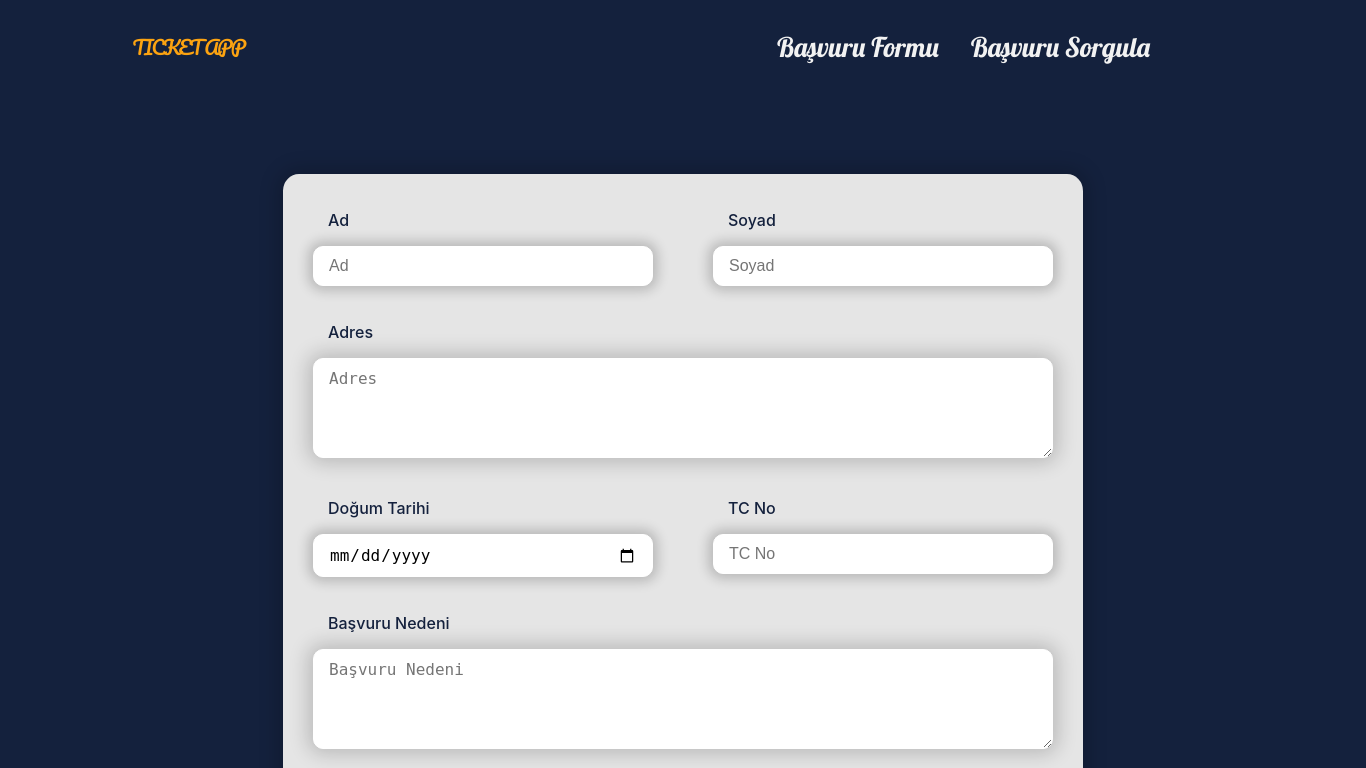
ApplicationForm › should display min length error when name, address, application  is invalid
Type "Y" into the field with test id "firstName". click: (483, 266)
box: [313,246,653,286]
Type "C" into the field with test id "lastName". click: (883, 266)
box: [713,246,1053,286]
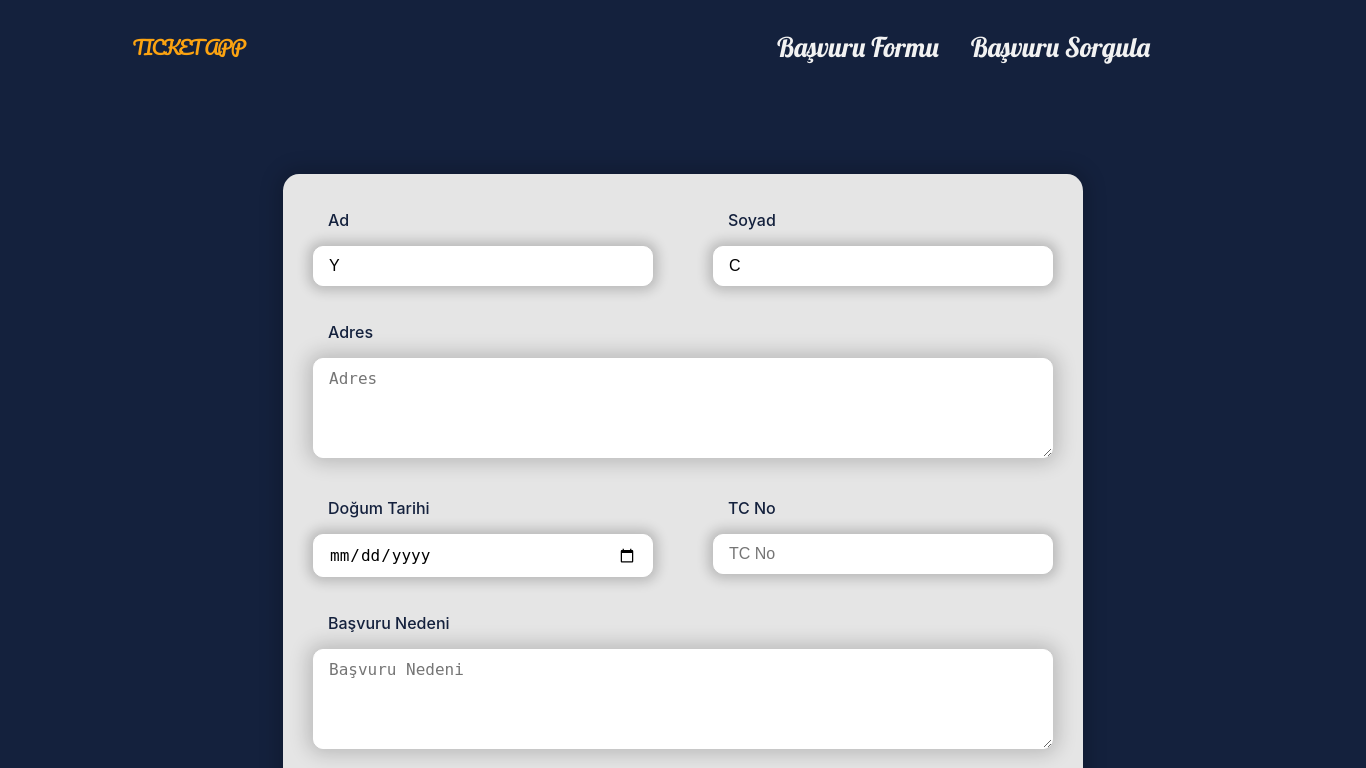
Type "12345678911" into the field with test id "tcNo". click: (883, 554)
box: [713,534,1053,574]
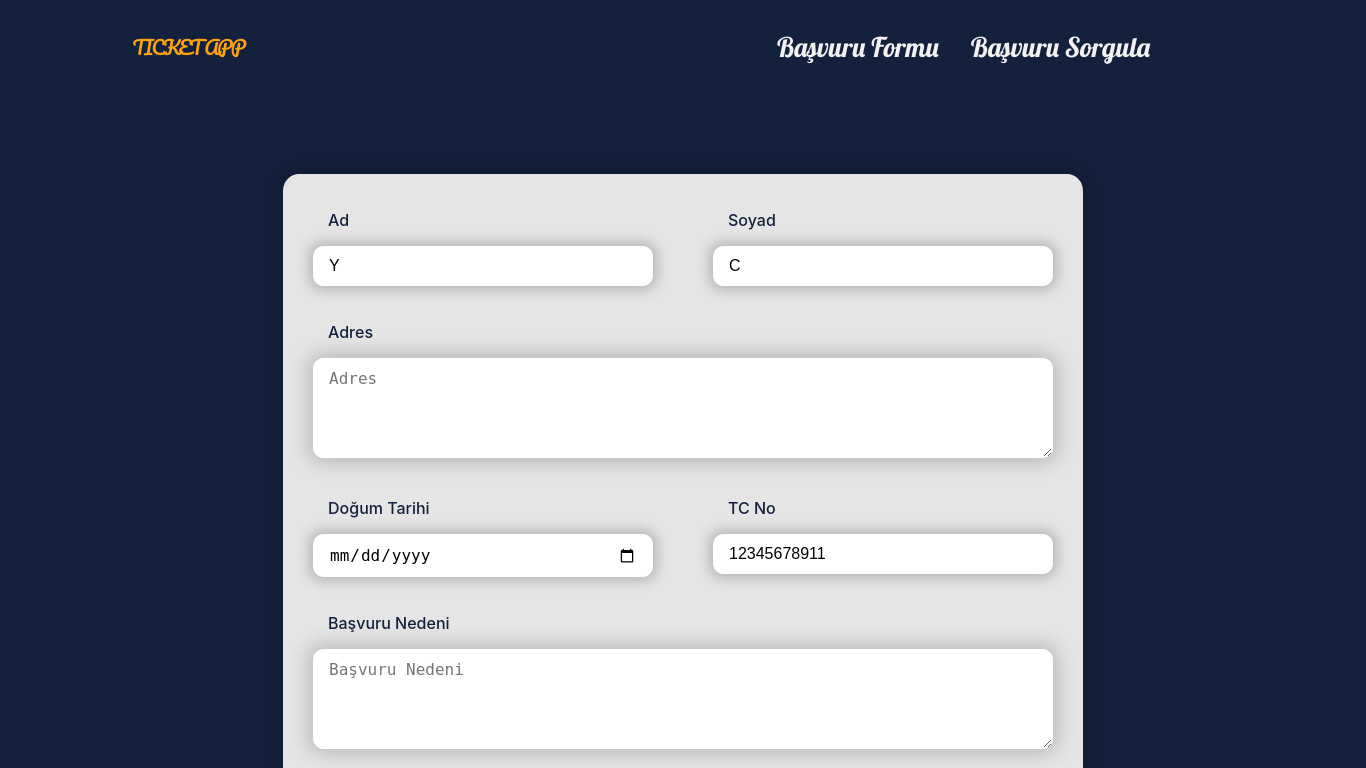
Type "1990-12-31" into the date field with test id "age". click: (483, 556)
box: [313,534,653,577]
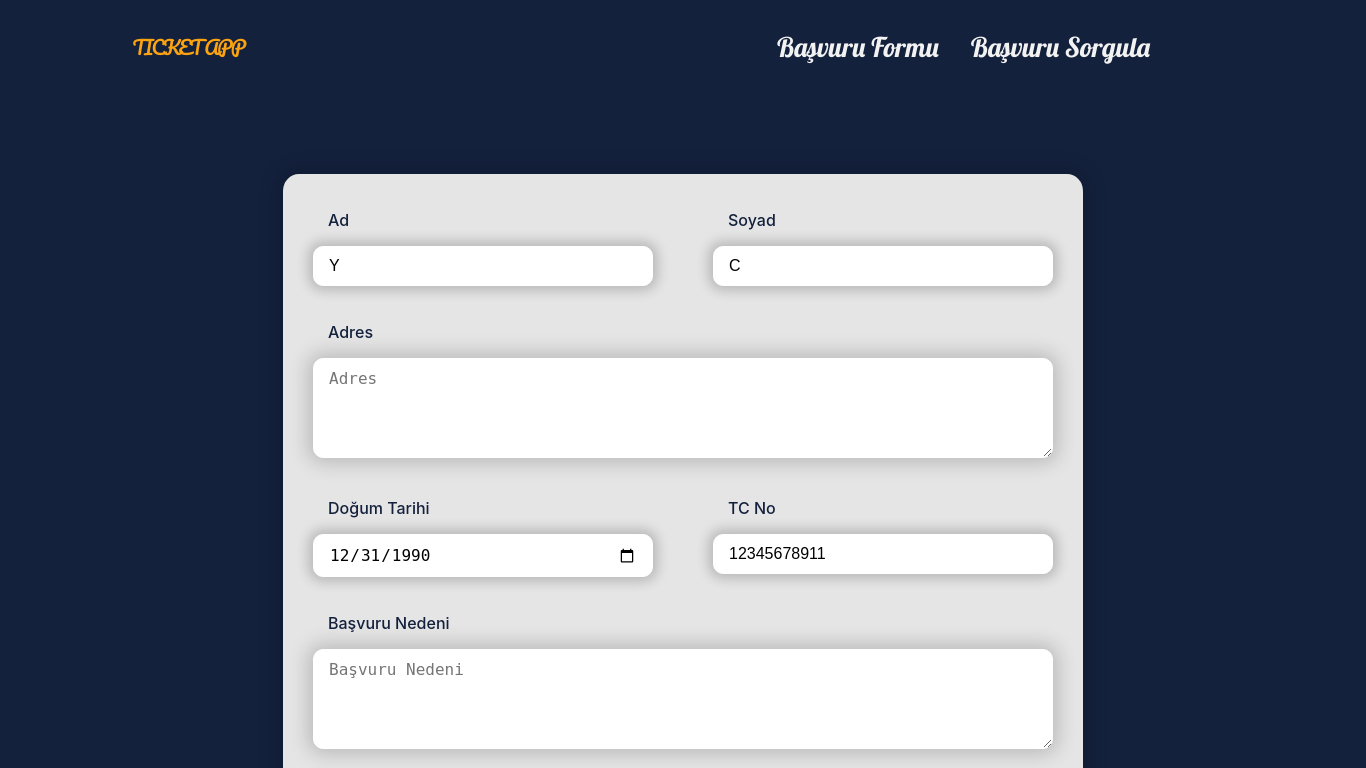
Type "İst" into the text box with test id "address". click: (683, 408)
box: [313,358,1053,458]
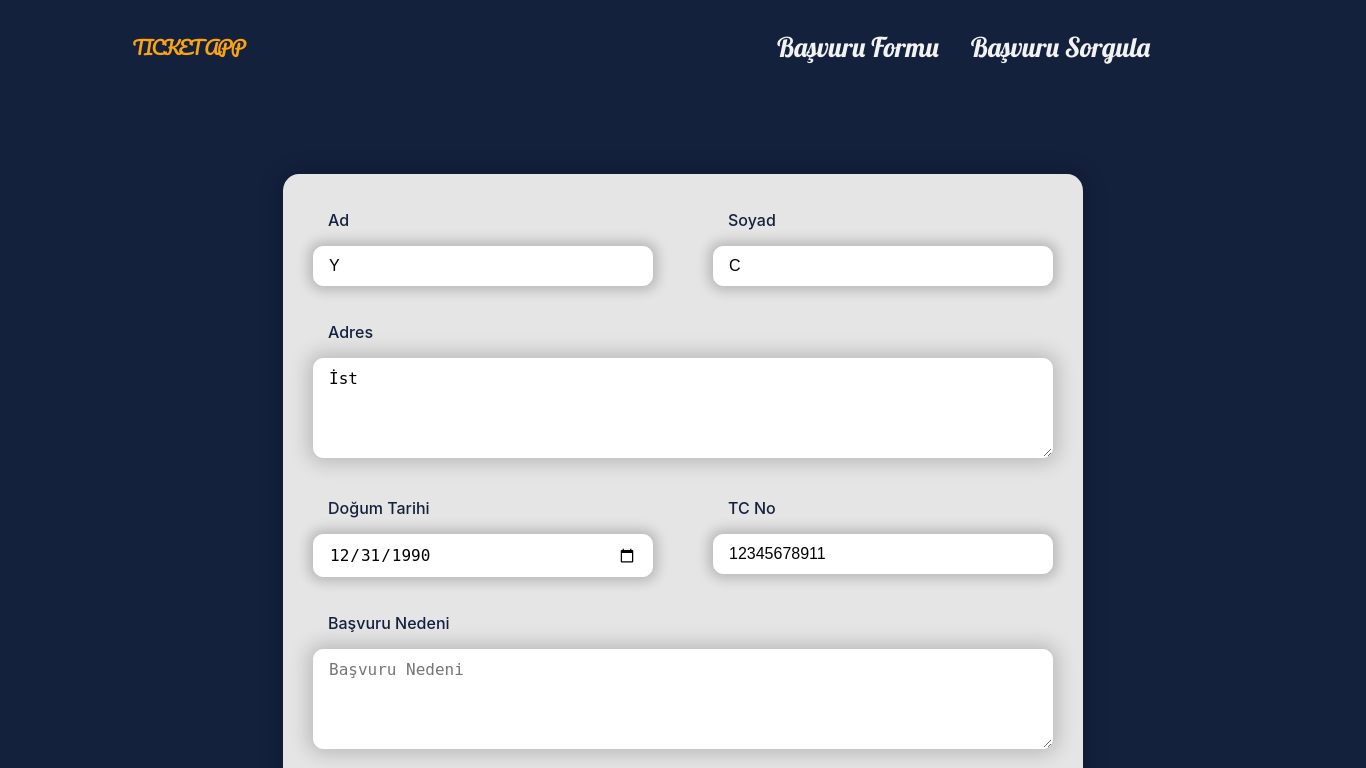
Type "For" into the text box with test id "application". click: (683, 699)
box: [313,649,1053,749]
(page scrolled)
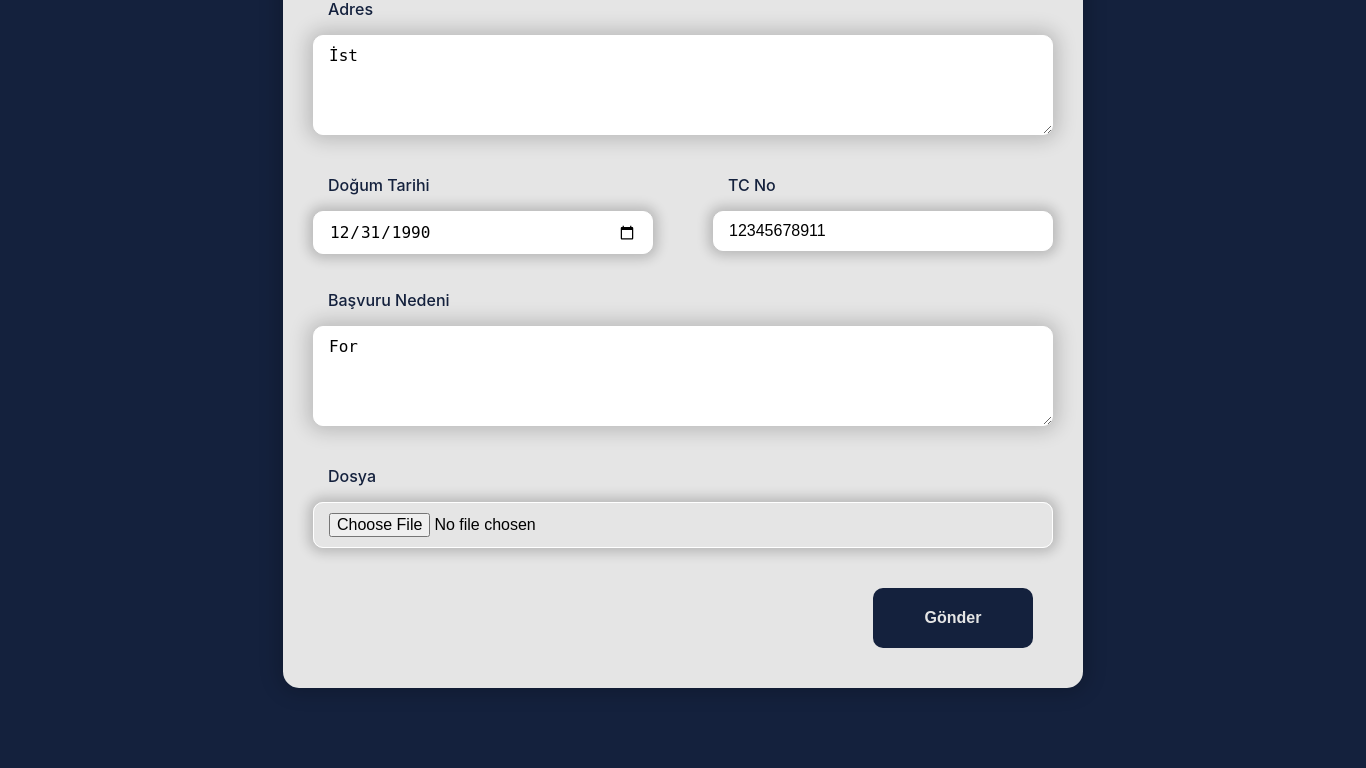
Submit the form from the button, box [873,588,1033,648]
(page scrolled)
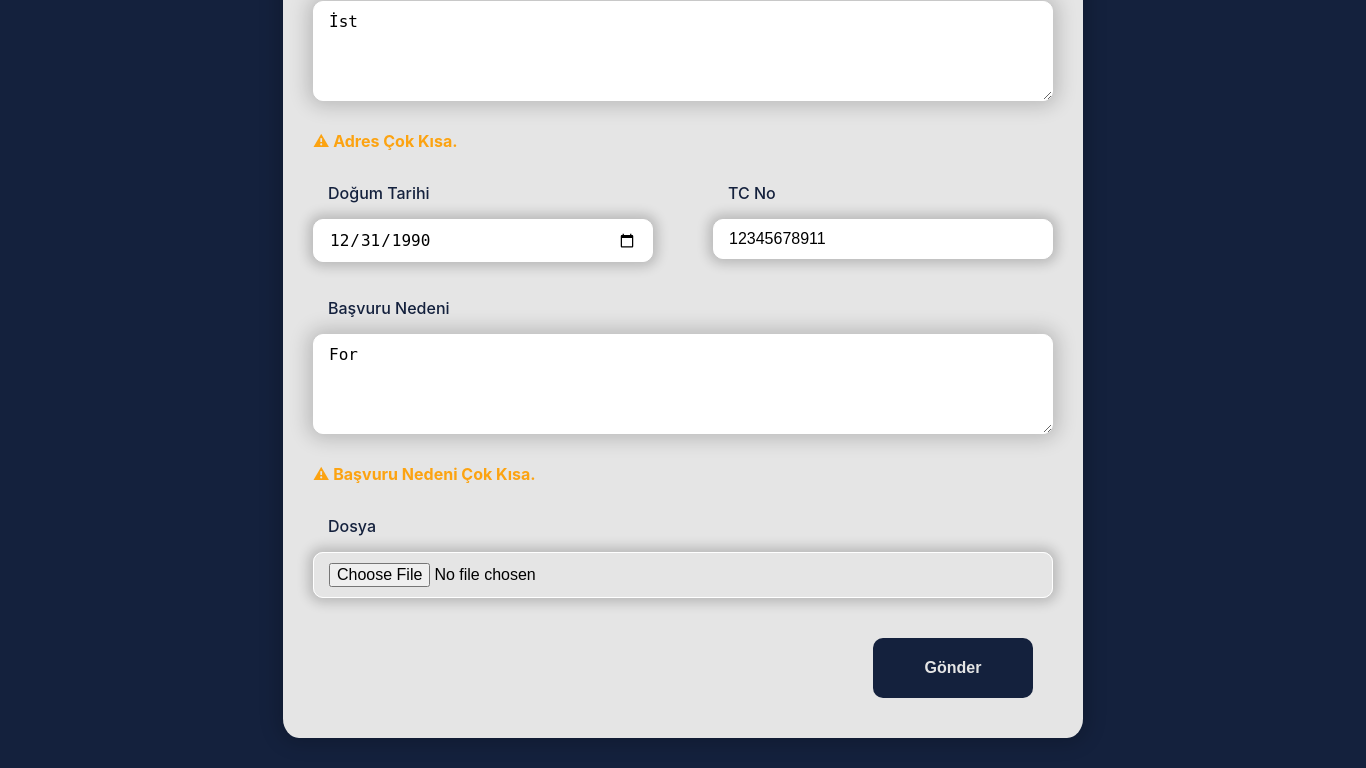
Expected: the number of messages is 4
